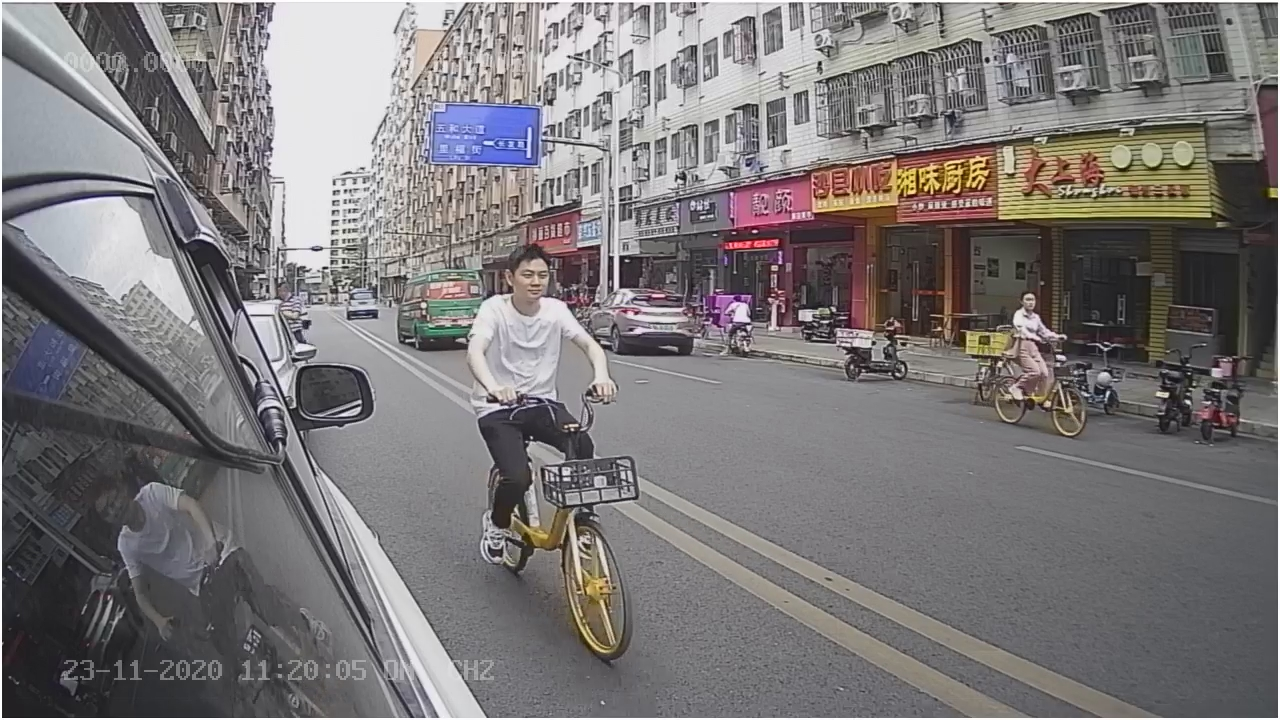person: (459, 239, 625, 417)
